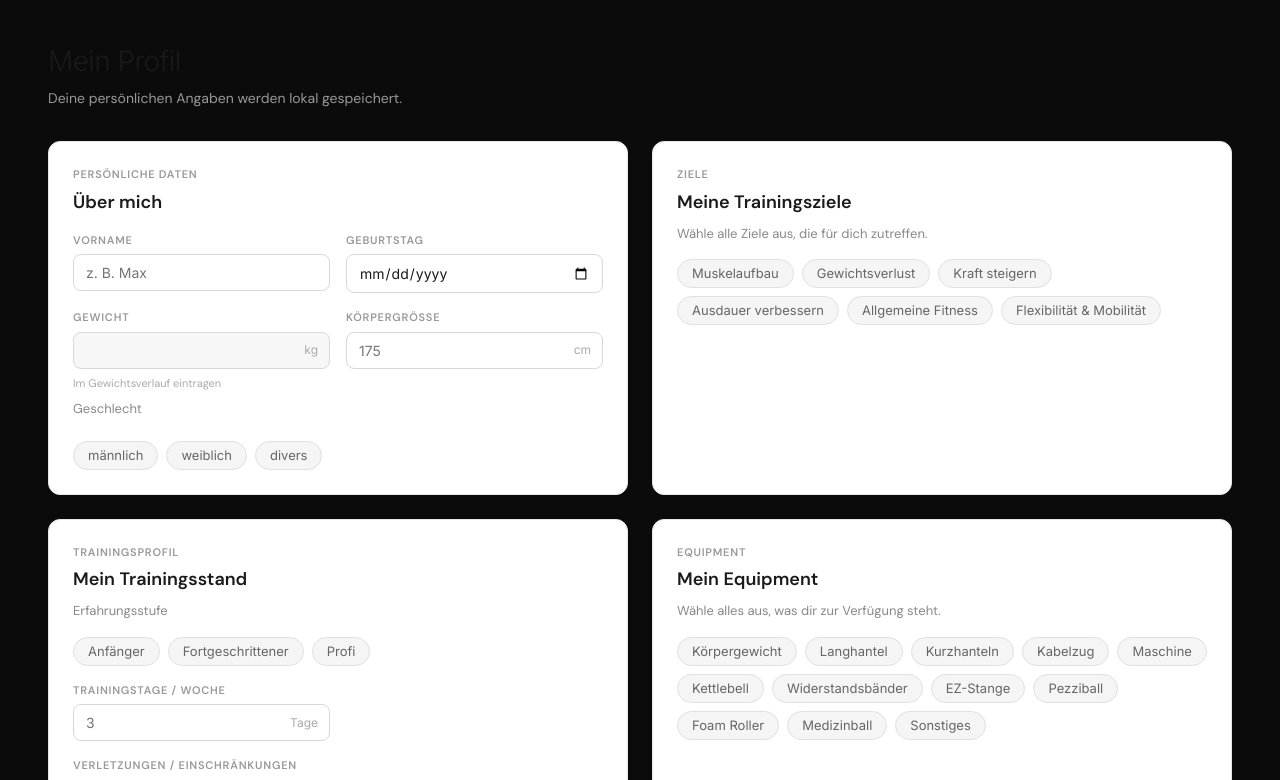
Scenario: UserProfile – Geburtstag & Alter-Berechnung › AC-02: zeigt berechnetes Alter nach Eingabe eines Geburtsdatums
In the date field labelled "Geburtstag": (474, 274) [346,254,603,293], type "1990-01-01"
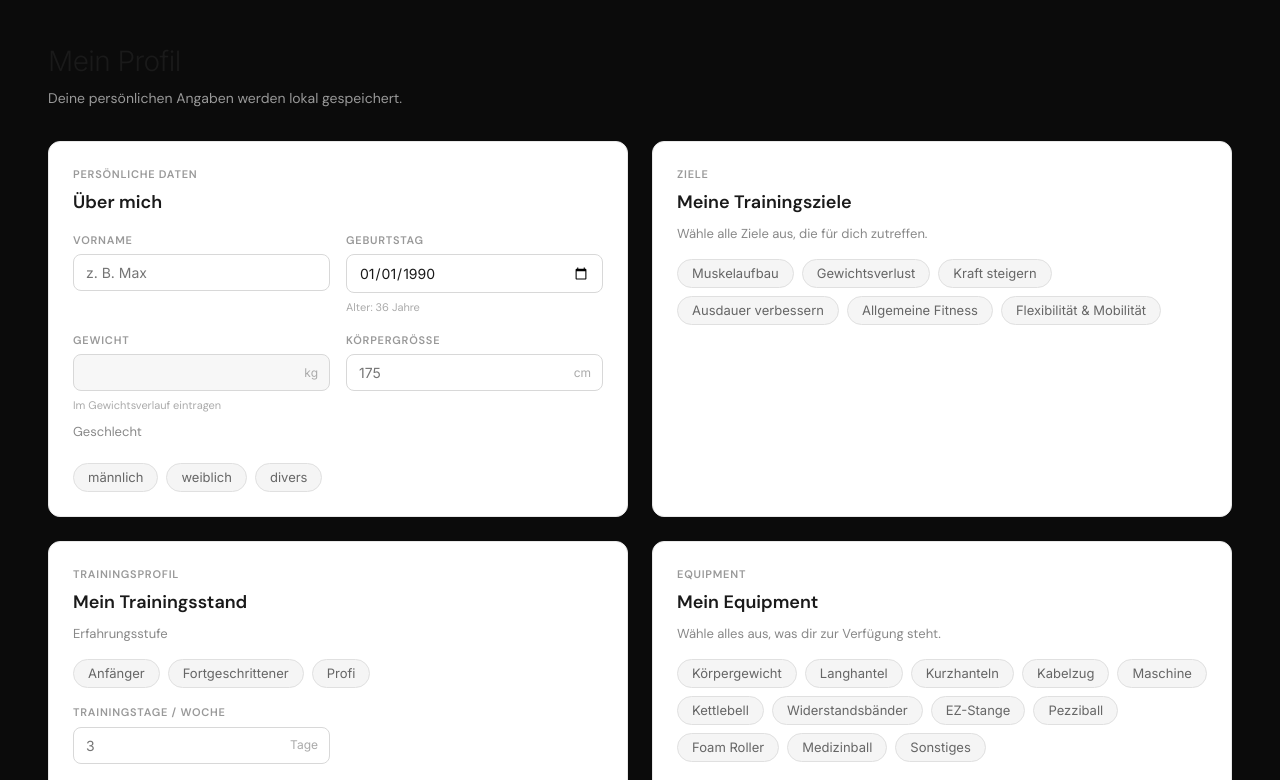
Now the text "Alter: 36 Jahre" is shown, box [346,300,420,314]
